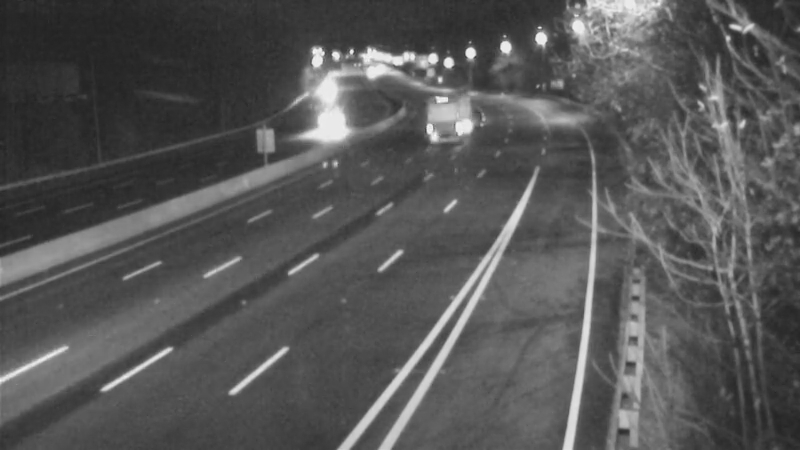vehicle: (434, 72, 484, 122), (306, 93, 356, 143), (306, 68, 356, 118)
